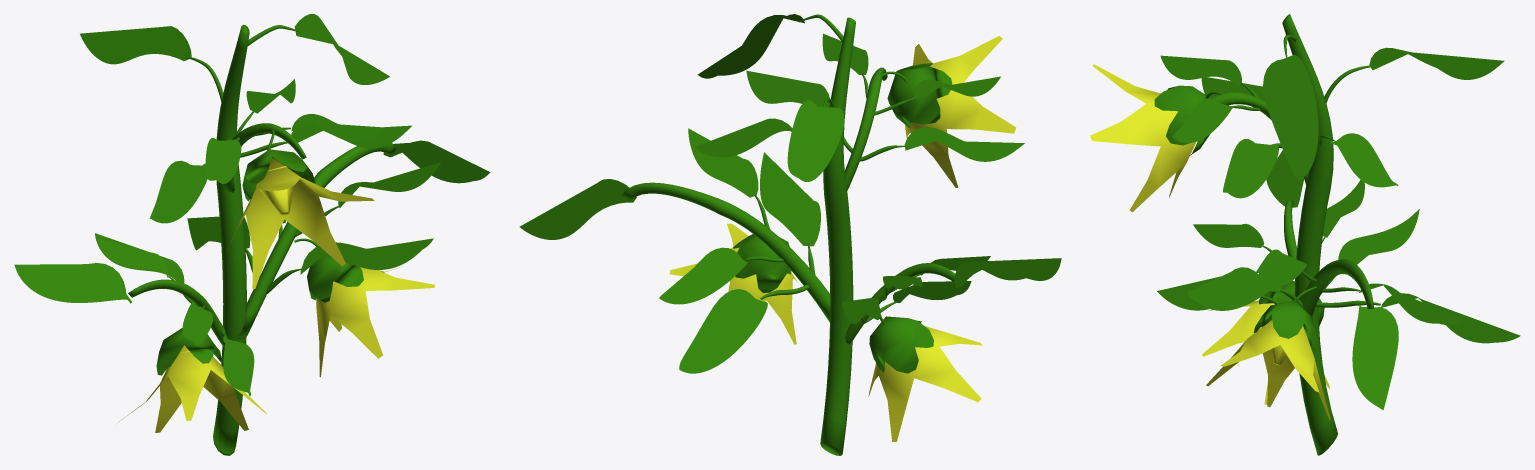
File: tomato3Output.fbx
3 views of the same model, side by side, from view 1: azimuth 30°, elevation 25°; view 2: azimuth 150°, elevation 25°; view 3: azimuth 270°, elevation 25° (orthographic). The views are drawn at different scales.
Visible parts, largest first — view 1: Circle.006, Cylinder.001; view 2: Circle.006, Cylinder.001; view 3: Circle.006, Cylinder.001.
Boxes of the visible parts, left/top/right/bottom form: Circle.006: left=14, top=14, right=490, bottom=455; Cylinder.001: left=118, top=149, right=434, bottom=432; Circle.006: left=519, top=14, right=1061, bottom=455; Cylinder.001: left=669, top=36, right=1016, bottom=441; Circle.006: left=1157, top=14, right=1520, bottom=455; Cylinder.001: left=1090, top=64, right=1330, bottom=419.
Bounding box in the file's own units: 903 × 736 × 652.
